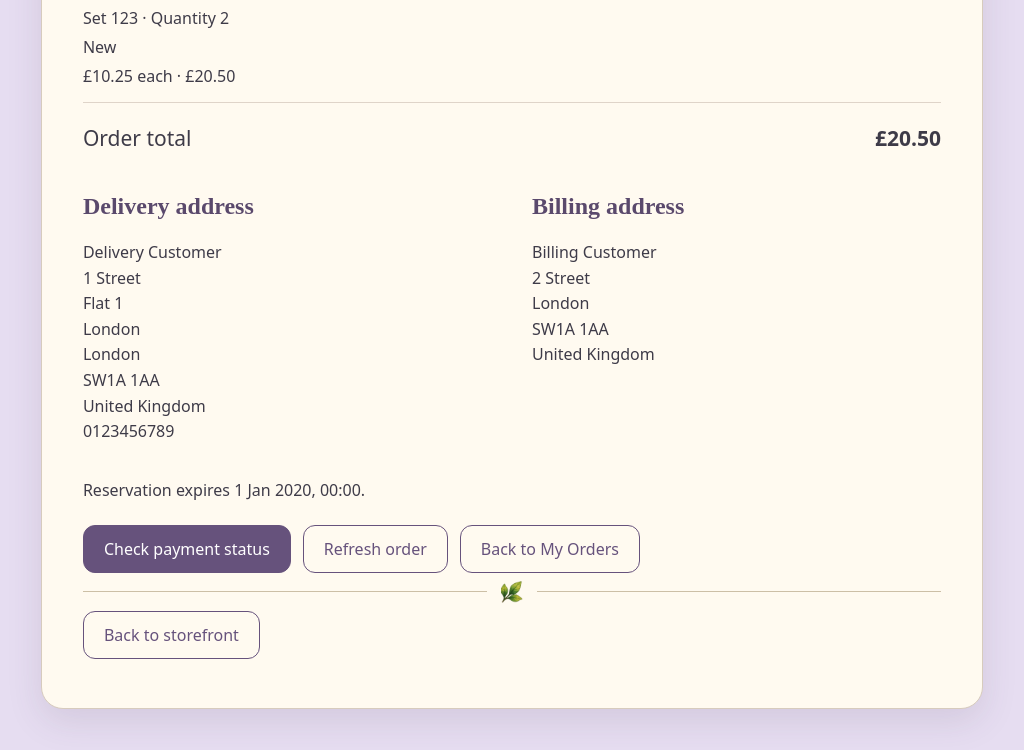
Test: explicit Order Detail payment recovery › recovers an expired started payment once, preserving checkout identity and updating authoritative state
(page scrolled)
What coordinates should you click on to do the following:
click the button "Check payment status"
I would click on:
 (187, 549)
Its box is [83,525,291,573].
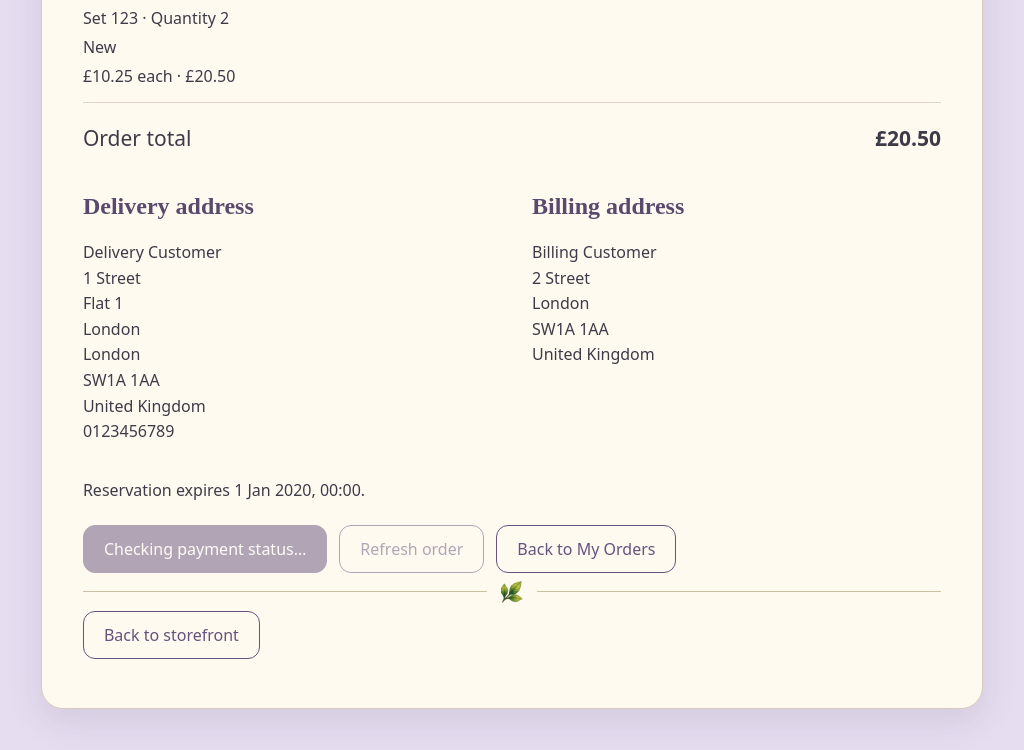
What coordinates should you click on to do the following:
click the button "Checking payment status…"
I would click on:
 (205, 549)
Its box is [83,525,327,573].
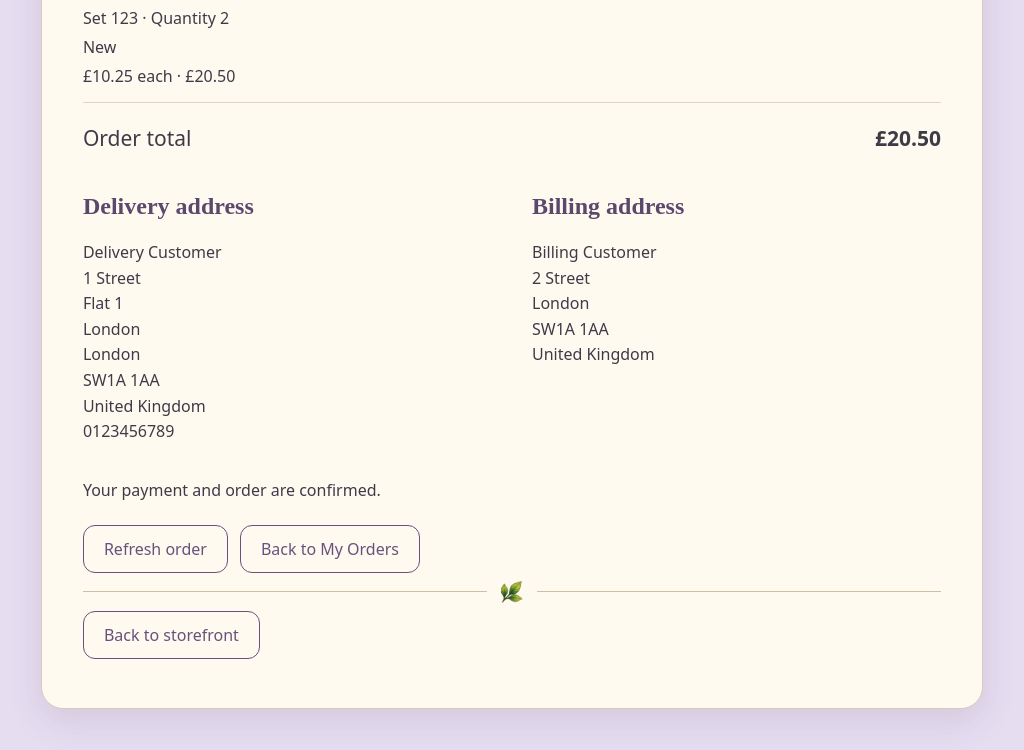
Check: the text "Check payment status" is not shown
Check: the text "Your payment and order are confirmed" is shown, box [83,479,381,501]
